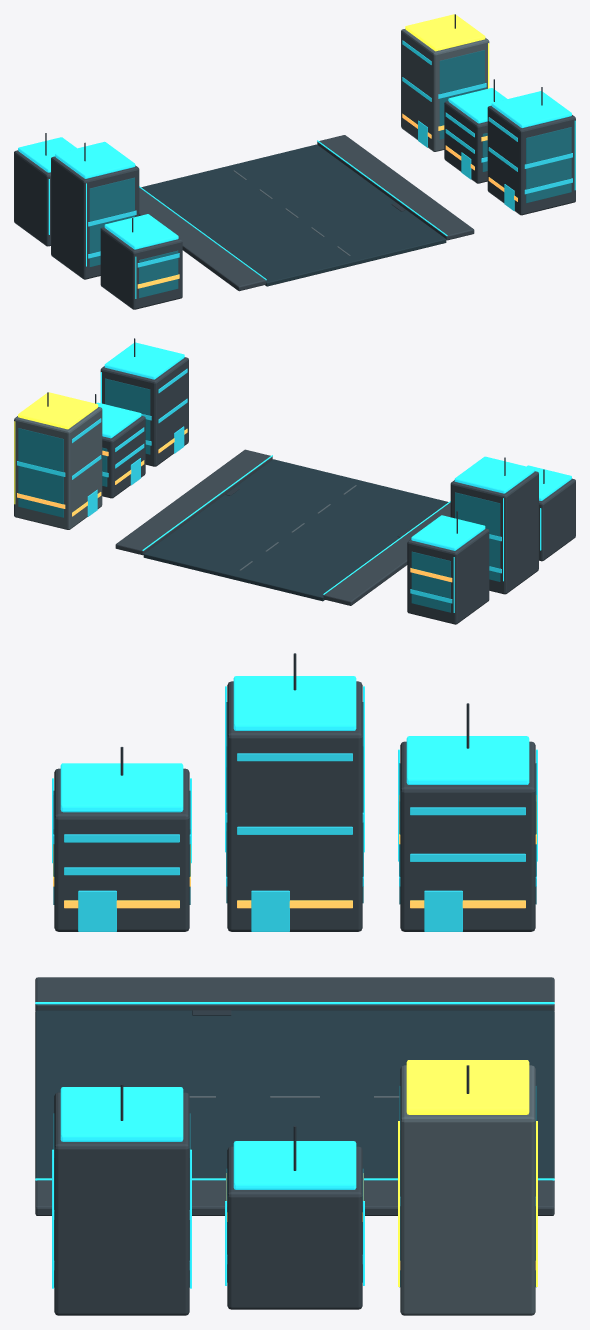
File: street_straight_lod1.glb
3 views of the same model, one above another, from view 1: azimuth 30°, elevation 25°; view 2: azimuth 150°, elevation 25°; view 3: azimuth 270°, elevation 25° (orthographic). The views are drawn at different scales.
Visible parts, largest first — view 1: ND_Batch_ND_WetAsphalt, ND_Batch_ND_CityConcrete, ND_Batch_ND_DarkGlass, ND_Batch_ND_CityCyanMuted, ND_Batch_ND_RoadEdge, ND_Batch_ND_CityConcreteLight, ND_Batch_ND_NeonGlass, ND_Batch_ND_PackageGold, ND_Batch_ND_WarmWindow; view 2: ND_Batch_ND_WetAsphalt, ND_Batch_ND_CityConcrete, ND_Batch_ND_DarkGlass, ND_Batch_ND_CityCyanMuted, ND_Batch_ND_RoadEdge, ND_Batch_ND_CityConcreteLight, ND_Batch_ND_NeonGlass, ND_Batch_ND_PackageGold, ND_Batch_ND_WarmWindow; view 3: ND_Batch_ND_CityConcrete, ND_Batch_ND_WetAsphalt, ND_Batch_ND_CityCyanMuted, ND_Batch_ND_CityConcreteLight, ND_Batch_ND_RoadEdge, ND_Batch_ND_NeonGlass, ND_Batch_ND_PackageGold, ND_Batch_ND_DarkGlass, ND_Batch_ND_WarmWindow, ND_Batch_ND_RooftopMetal.
Boxes of the visible parts, x1,y1,x2,y2 form: ND_Batch_ND_WetAsphalt: (141,144,446,286); ND_Batch_ND_CityConcrete: (14,101,575,309); ND_Batch_ND_DarkGlass: (89,50,571,298); ND_Batch_ND_CityCyanMuted: (18,88,575,298); ND_Batch_ND_RoadEdge: (139,135,474,291); ND_Batch_ND_CityConcreteLight: (233,29,489,255); ND_Batch_ND_NeonGlass: (88,40,572,267); ND_Batch_ND_PackageGold: (405,14,489,88); ND_Batch_ND_WarmWindow: (137,113,517,288); ND_Batch_ND_WetAsphalt: (143,459,448,601); ND_Batch_ND_CityConcrete: (100,357,575,624); ND_Batch_ND_DarkGlass: (18,378,500,612); ND_Batch_ND_CityCyanMuted: (96,342,571,612); ND_Batch_ND_RoadEdge: (115,449,450,605); ND_Batch_ND_CityConcreteLight: (14,407,356,570); ND_Batch_ND_NeonGlass: (17,368,501,603); ND_Batch_ND_PackageGold: (14,392,98,504); ND_Batch_ND_WarmWindow: (17,428,452,582); ND_Batch_ND_CityConcrete: (54,681,535,1315); ND_Batch_ND_WetAsphalt: (35,1010,554,1181); ND_Batch_ND_CityCyanMuted: (35,676,554,1288); ND_Batch_ND_CityConcreteLight: (189,1065,535,1315); ND_Batch_ND_RoadEdge: (35,977,554,1215); ND_Batch_ND_NeonGlass: (53,753,536,1269); ND_Batch_ND_PackageGold: (398,1060,537,1286); ND_Batch_ND_DarkGlass: (53,702,536,1287); ND_Batch_ND_WarmWindow: (53,795,536,1269); ND_Batch_ND_RooftopMetal: (120,653,469,1178).
Size of the model in its own units: 40 by 10.63 by 20.
